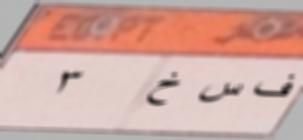3: (54, 63, 88, 101)
faa: (255, 70, 299, 101)
khaa: (146, 71, 185, 112)
seen: (198, 76, 247, 108)
